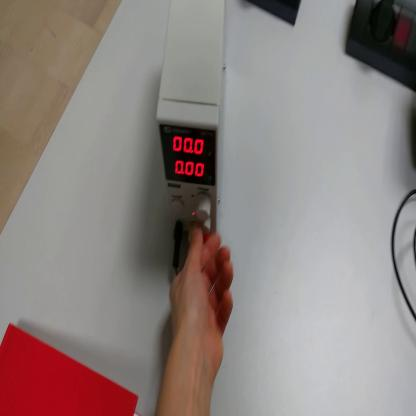hand: (168, 227, 235, 378)
power supply: (155, 3, 227, 239)
register: (1, 320, 141, 416)
socket: (344, 1, 416, 96), (251, 2, 303, 27)
